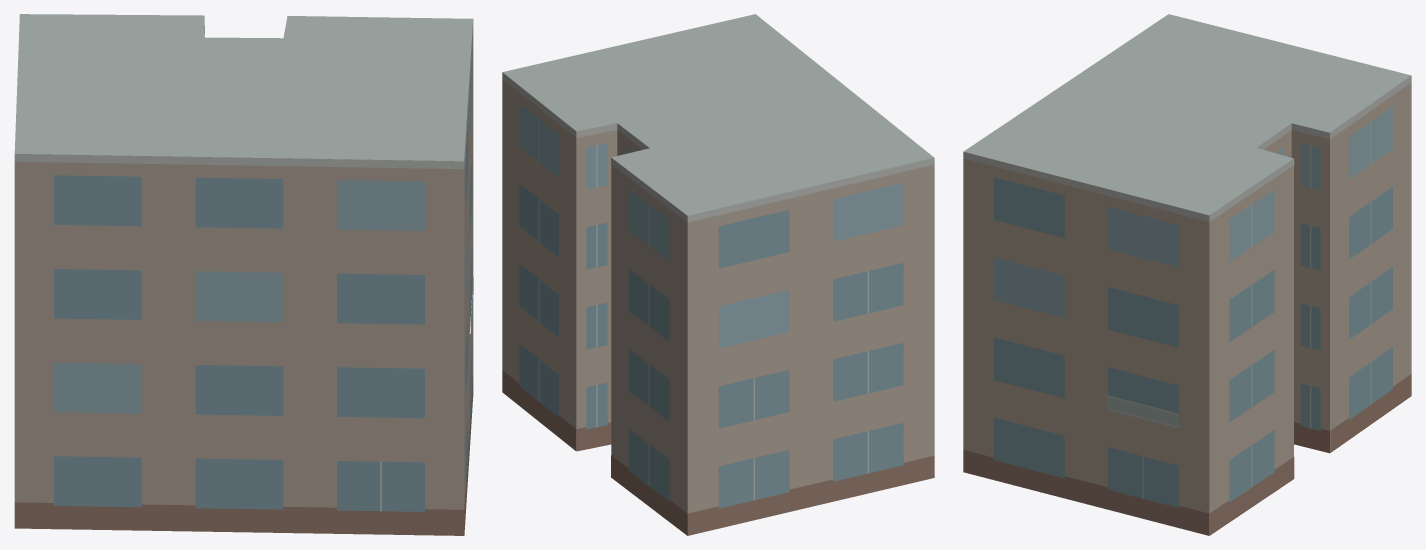
The model's file is survey-upis-32880178.glb.
The picture shows the model from 3 angles, left to right: view 1: azimuth 30°, elevation 25°; view 2: azimuth 150°, elevation 25°; view 3: azimuth 270°, elevation 25°; orthographic projection. The views are drawn at different scales.
Visible parts, largest first — view 1: survey-upis-32880178.tmp; view 2: survey-upis-32880178.tmp; view 3: survey-upis-32880178.tmp.
Part boxes in pixels (x1,y1,x2,y2): survey-upis-32880178.tmp: (14, 14, 473, 535); survey-upis-32880178.tmp: (502, 14, 934, 535); survey-upis-32880178.tmp: (963, 14, 1411, 535).
Size of the model in its own units: 15.64 by 11.6 by 14.72.
